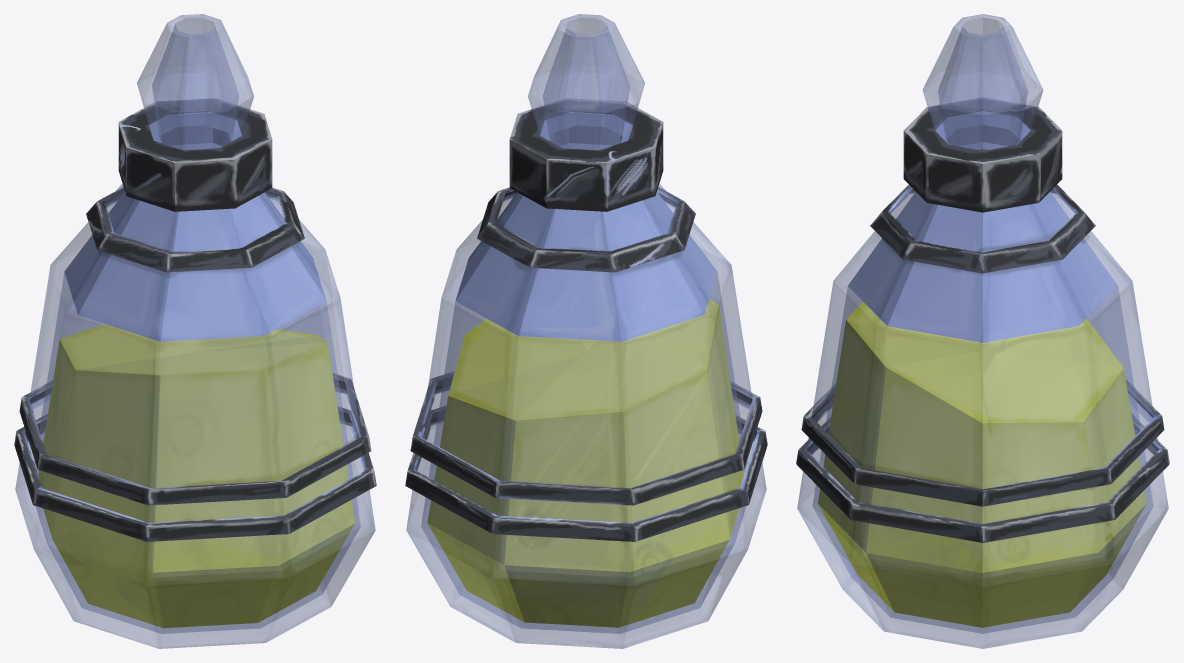
File: yellow_potion.glb
The picture shows the model from 3 angles, left to right: view 1: azimuth 30°, elevation 25°; view 2: azimuth 150°, elevation 25°; view 3: azimuth 270°, elevation 25°; orthographic projection.
Visible parts, largest first — view 1: fiolka zolta, mikstura zolta; view 2: fiolka zolta, mikstura zolta; view 3: fiolka zolta, mikstura zolta.
Part boxes in pixels (x1,y1,x2,y2): fiolka zolta: (14, 14, 376, 648); mikstura zolta: (38, 324, 354, 628); fiolka zolta: (405, 14, 767, 648); mikstura zolta: (427, 299, 744, 627); fiolka zolta: (796, 14, 1169, 648); mikstura zolta: (818, 302, 1146, 627).
Size of the model in its own units: 0.2941 by 0.4889 by 0.2941.
Materials: 3 (3 with a texture image).
